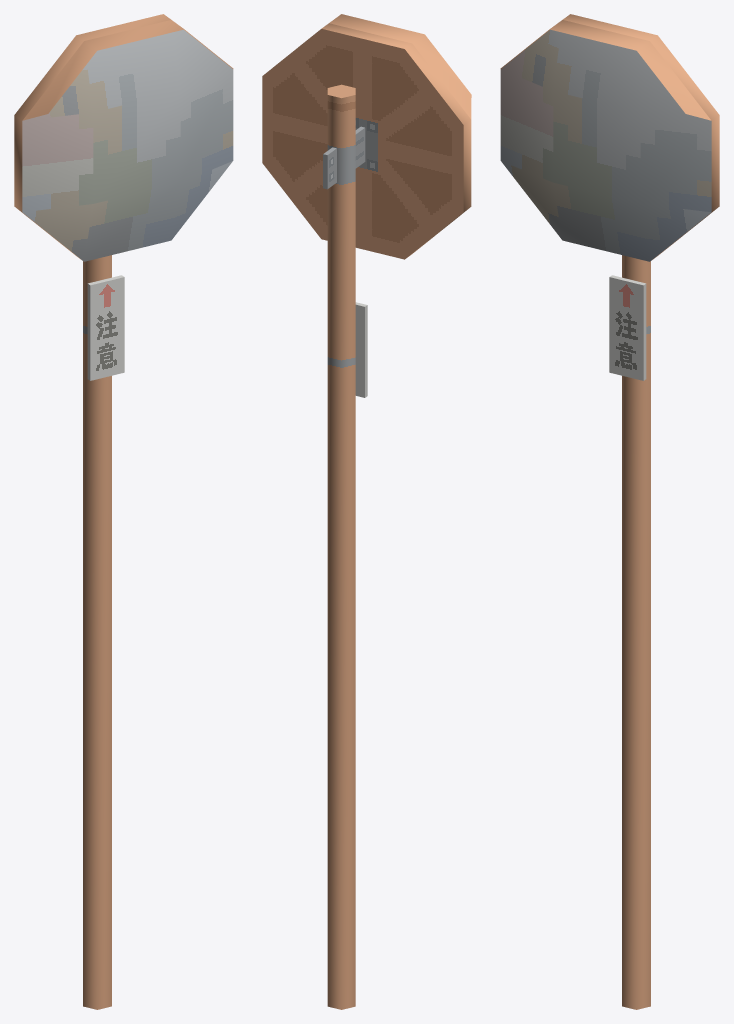
The model's file is 0287_Traffic_Mirror.glb.
3 renders of one model, left to right at view 1: azimuth 30°, elevation 25°; view 2: azimuth 150°, elevation 25°; view 3: azimuth 330°, elevation 25°, orthographic. The views are drawn at different scales.
Parts seen in each view (by area): view 1: part_1, part_0; view 2: part_0; view 3: part_1, part_0.
Boxes of the visible parts, box(x1,y1,x2,y2) form: part_1: box(22, 29, 233, 261); part_0: box(14, 14, 233, 1009); part_0: box(262, 14, 471, 1009); part_1: box(500, 29, 711, 261); part_0: box(500, 14, 719, 1009).
Size of the model in its own units: 0.7391 by 3.33 by 0.368.
Materials: 2 (2 with a texture image).
